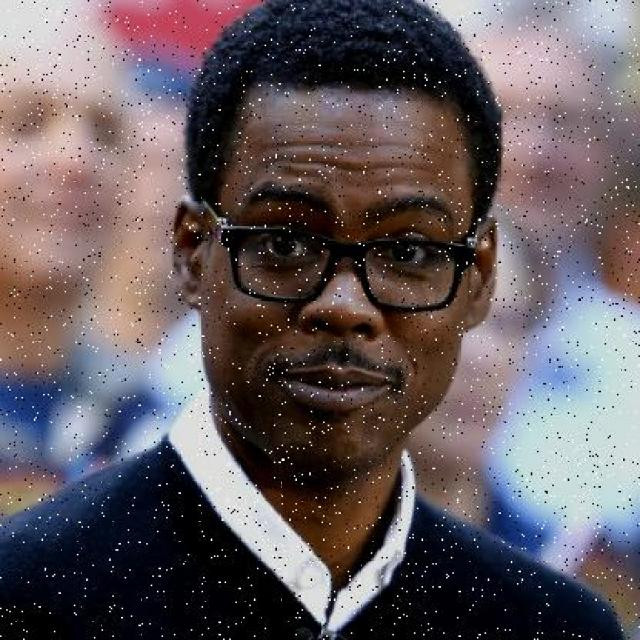glasses: (207, 212, 484, 320)
